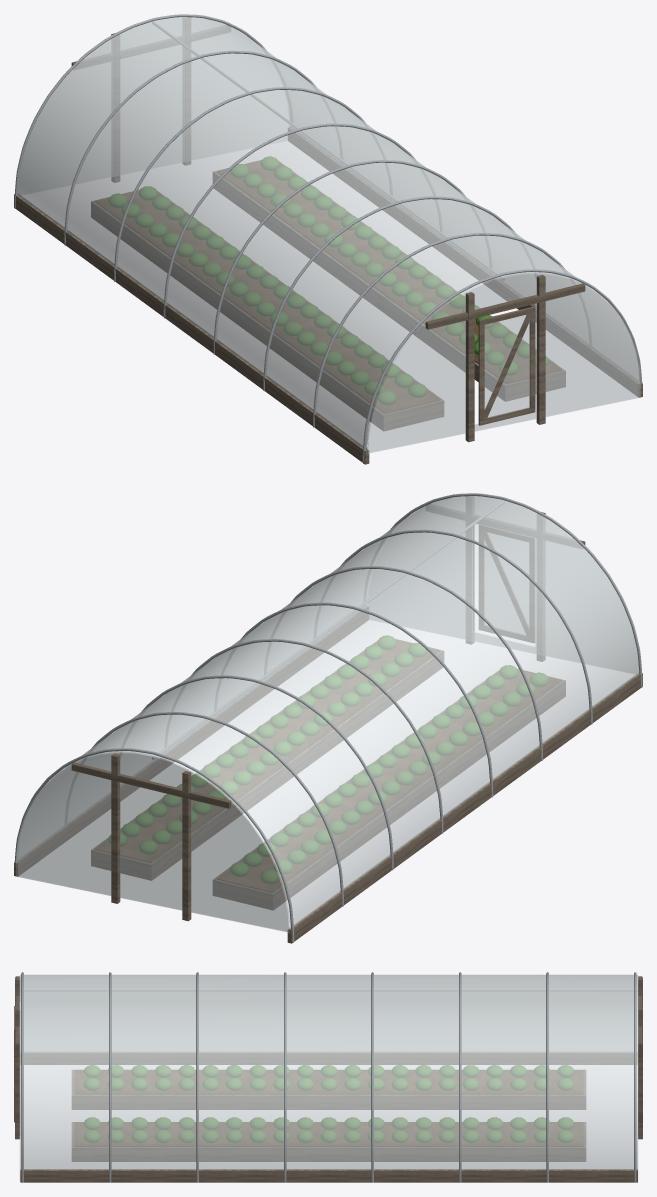
Rendered from polytunnel.glb.
The picture shows the model from 3 angles, top to bottom: view 1: azimuth 30°, elevation 25°; view 2: azimuth 150°, elevation 25°; view 3: azimuth 270°, elevation 25°; orthographic projection. The views are drawn at different scales.
Visible parts, largest first — view 1: Polytunnel; view 2: Polytunnel; view 3: Polytunnel.
Boxes of the visible parts, box(x1,y1,x2,y2) form: Polytunnel: box(14, 14, 642, 464); Polytunnel: box(14, 493, 642, 943); Polytunnel: box(14, 972, 642, 1182).
Size of the model in its own units: 5.51 by 2.96 by 12.22.
Materials: 5 (2 with a texture image).
